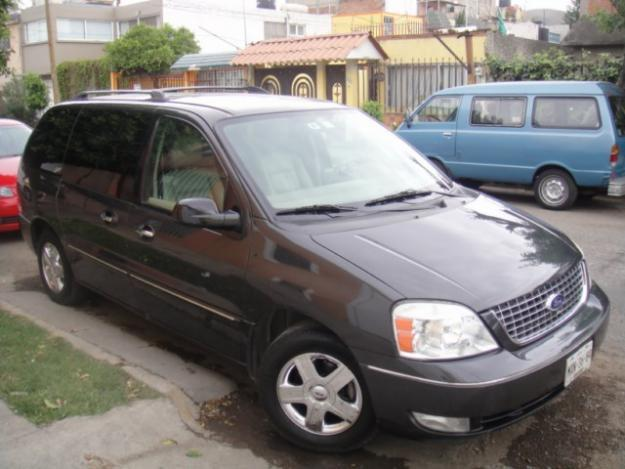Car: (9, 68, 624, 468)
